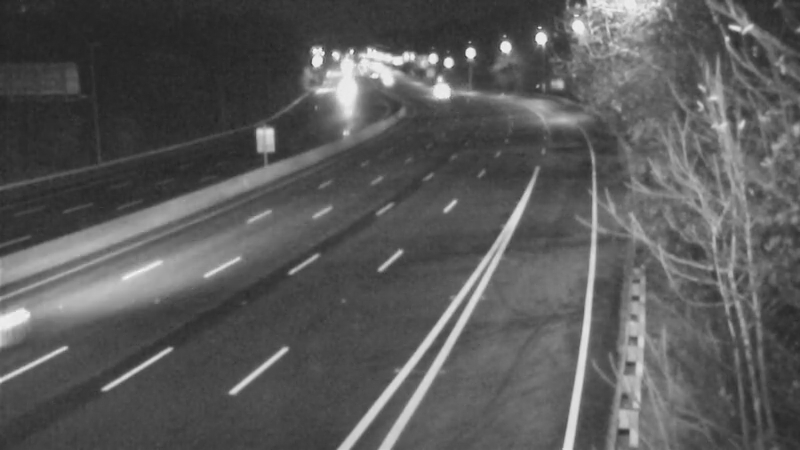vehicle: (418, 63, 468, 113)
